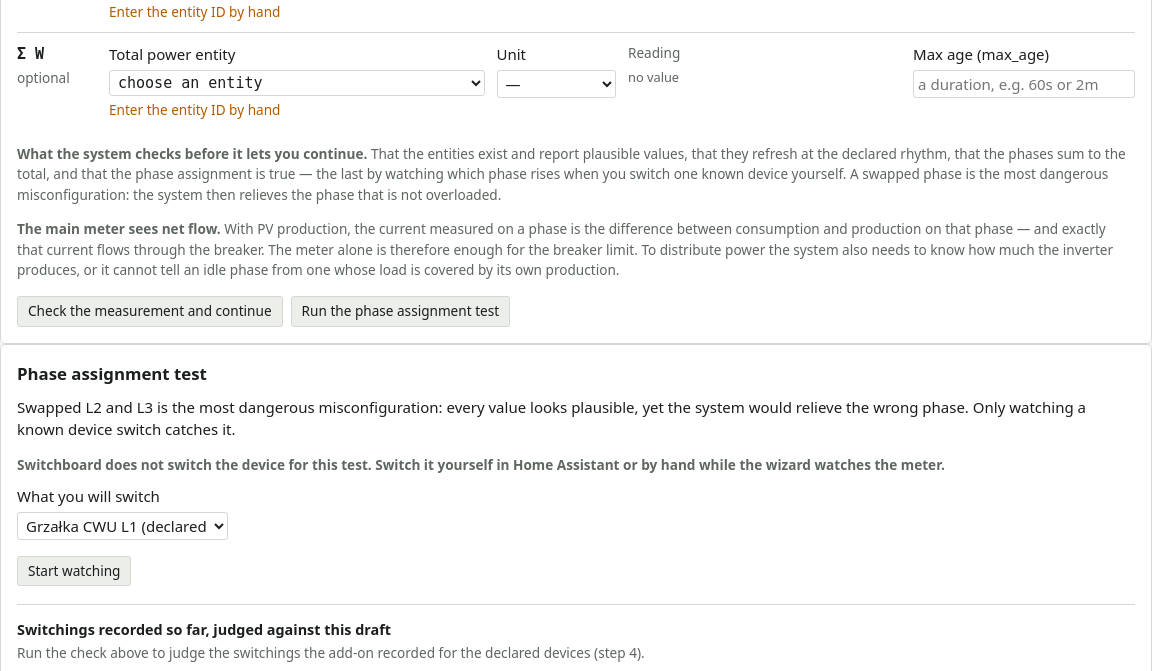
Test: phase assignment test › recorded switchings are judged against this draft: a swapped phase shows as a mismatch
The width and height of the screenshot is (1152, 671).
(page scrolled)
Expected: the text "Run the check above" is shown, [17,643,645,662]
Step 1. Click the button "Check the measurement and continue" → (150, 312), box [17,296,283,327]
(page scrolled)
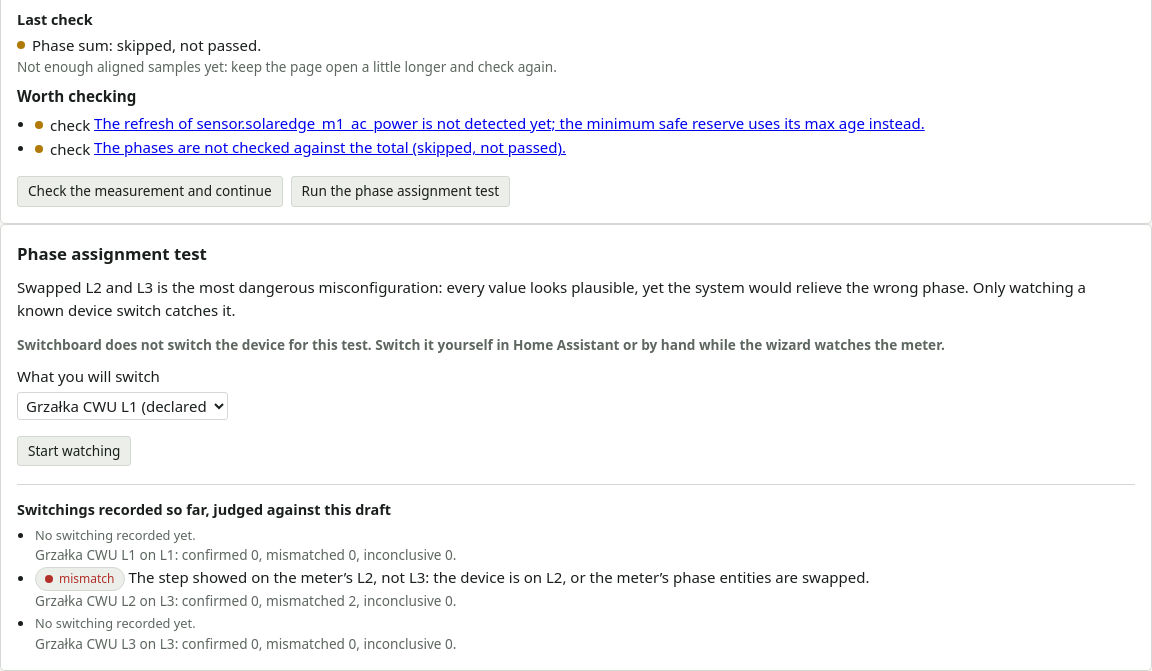
Now the list item that starts with "mismatch" shows "The step showed on the meter’s L2, not L3", box [128,567,869,587]
Now the list item that starts with "mismatch" shows "Grzałka CWU L2 on L3: confirmed 0, mismatched 2, inconclusive 0.", box [35,591,456,610]
Now the 3rd list item shows "No switching recorded yet.", box [35,526,196,544]
